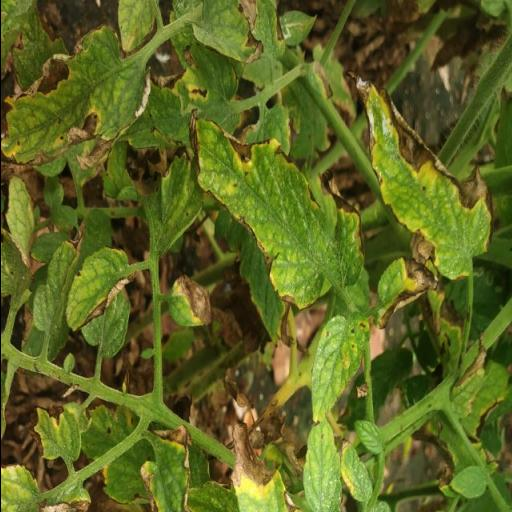Early Blight: (184, 104, 366, 314), (344, 63, 496, 283), (0, 19, 154, 174), (62, 242, 136, 340), (373, 256, 439, 336)
